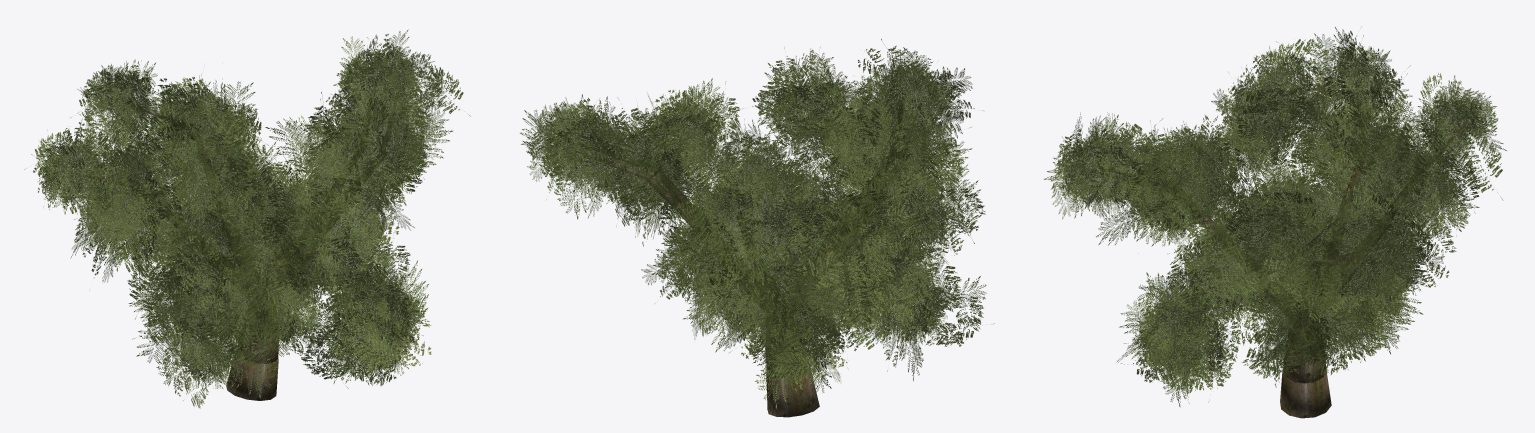
File: olive_4.glb
3 renders of one model, left to right at view 1: azimuth 30°, elevation 25°; view 2: azimuth 150°, elevation 25°; view 3: azimuth 270°, elevation 25°, orthographic. The views are drawn at different scales.
Visible parts, largest first — view 1: olive; view 2: olive; view 3: olive.
Boxes of the visible parts, left/top/right/bottom form: olive: left=24, top=29, right=470, bottom=408; olive: left=520, top=39, right=994, bottom=417; olive: left=1044, top=27, right=1506, bottom=418.
Bounding box in the file's own units: 8.54 × 6.12 × 7.78.
Materials: 2 (2 with a texture image).
